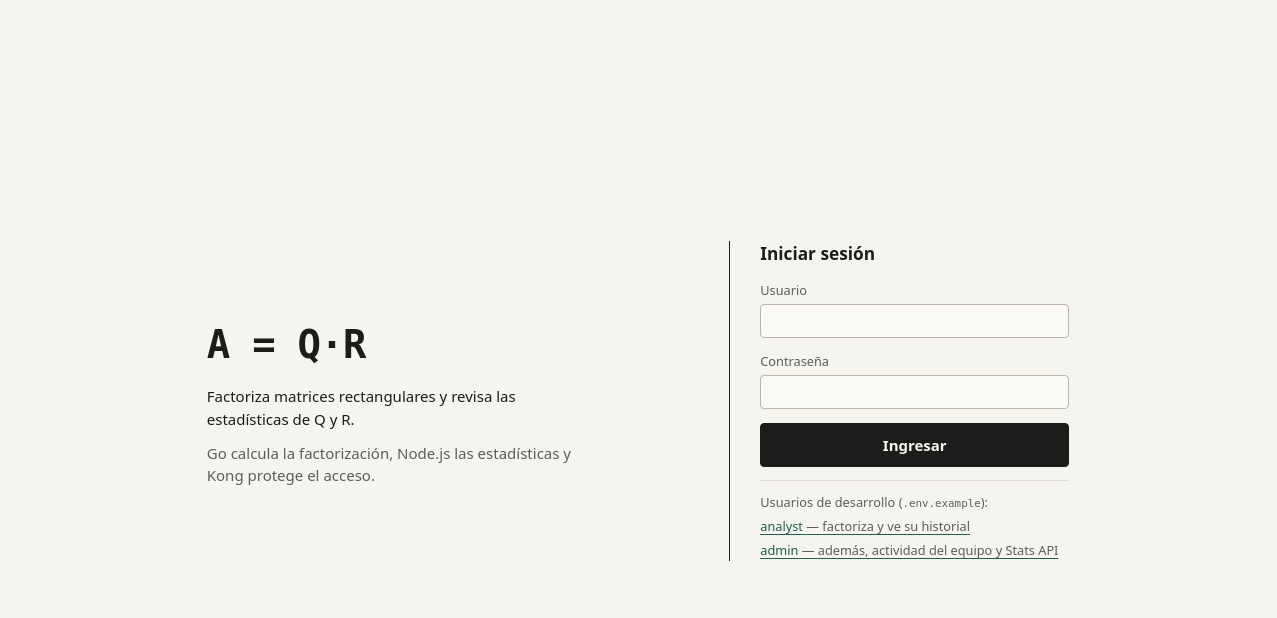
Test case: App › calcula con Ctrl+Enter desde el editor
This screenshot has width=1277, height=618.
Type "analyst" into the field labelled "Usuario".
click(915, 321); type("analyst")  # box left=760, top=304, right=1069, bottom=338
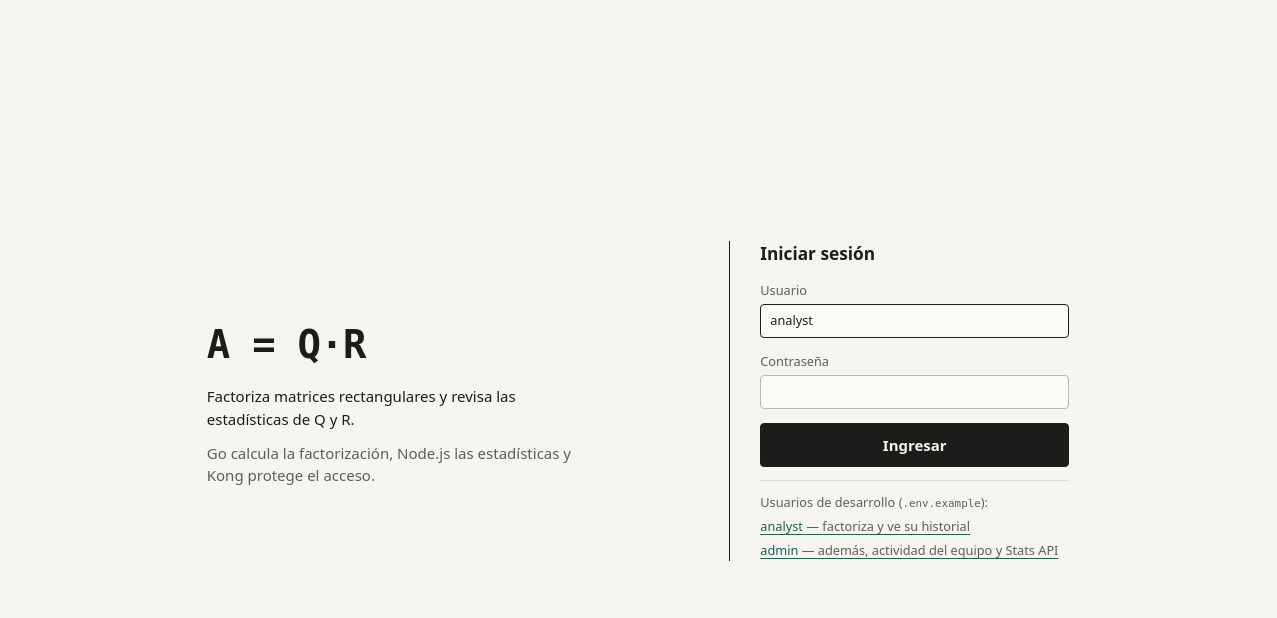
Type "Analyst123!" into the password field labelled "Contraseña".
click(915, 392); type("Analyst123!")  # box left=760, top=375, right=1069, bottom=409
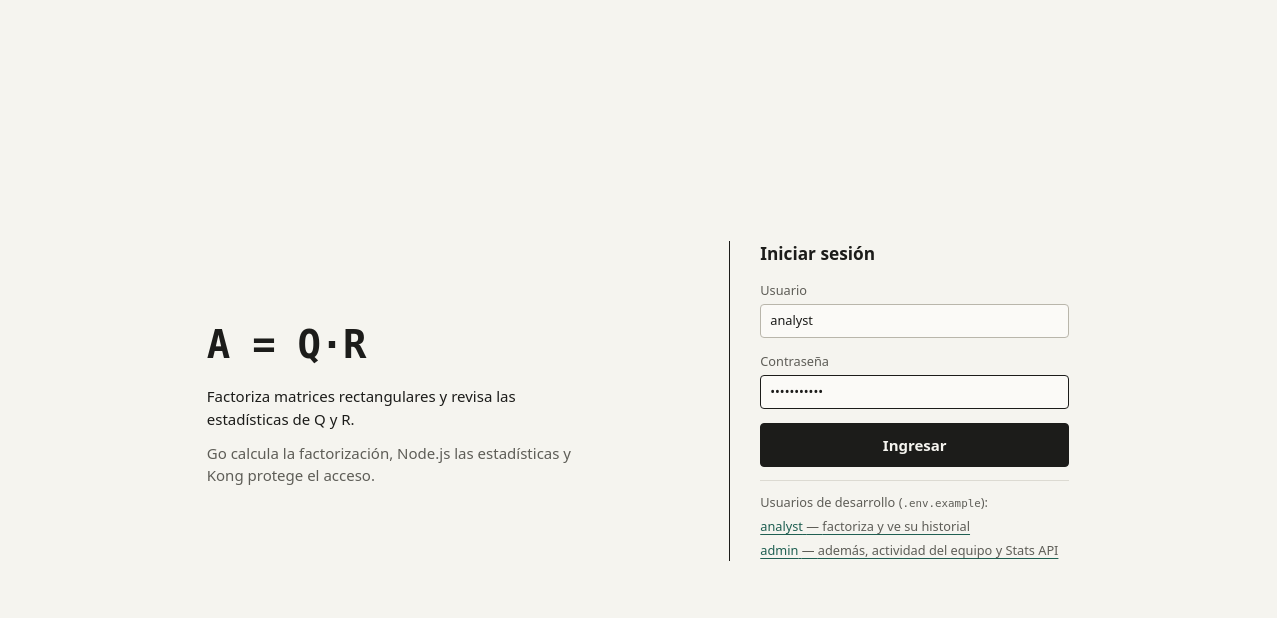
Click the button "Ingresar".
click(915, 445)  # box left=760, top=423, right=1069, bottom=467
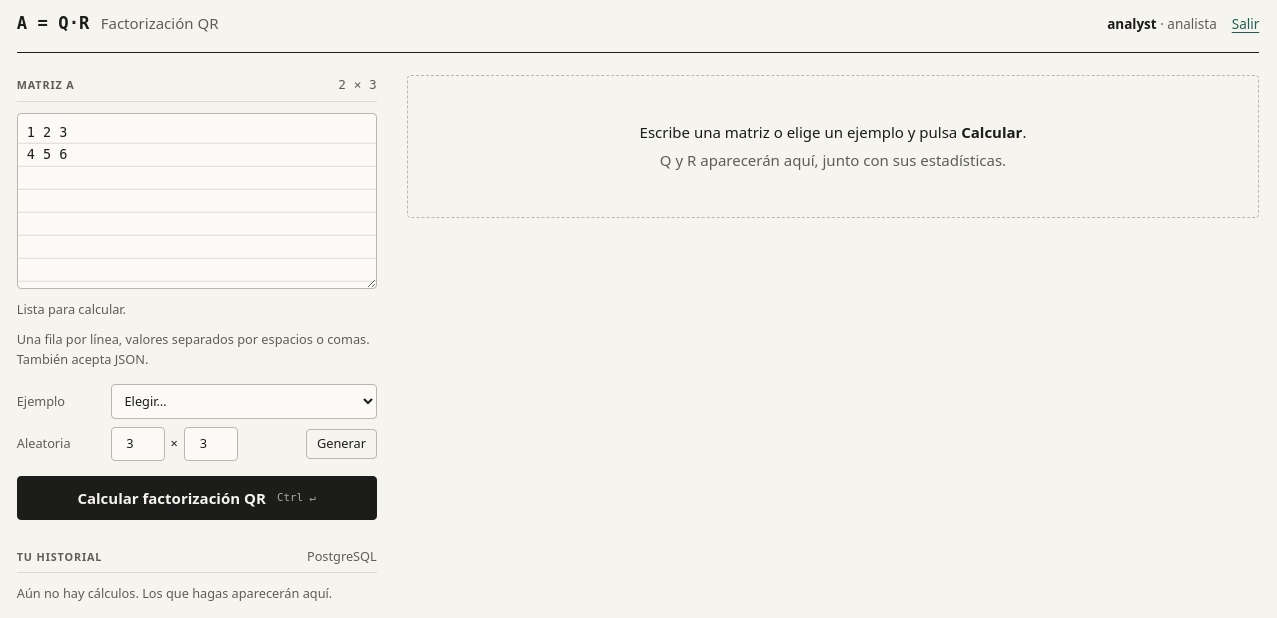
Click the text box labelled "Matriz A".
click(197, 201)  # box left=17, top=113, right=377, bottom=289
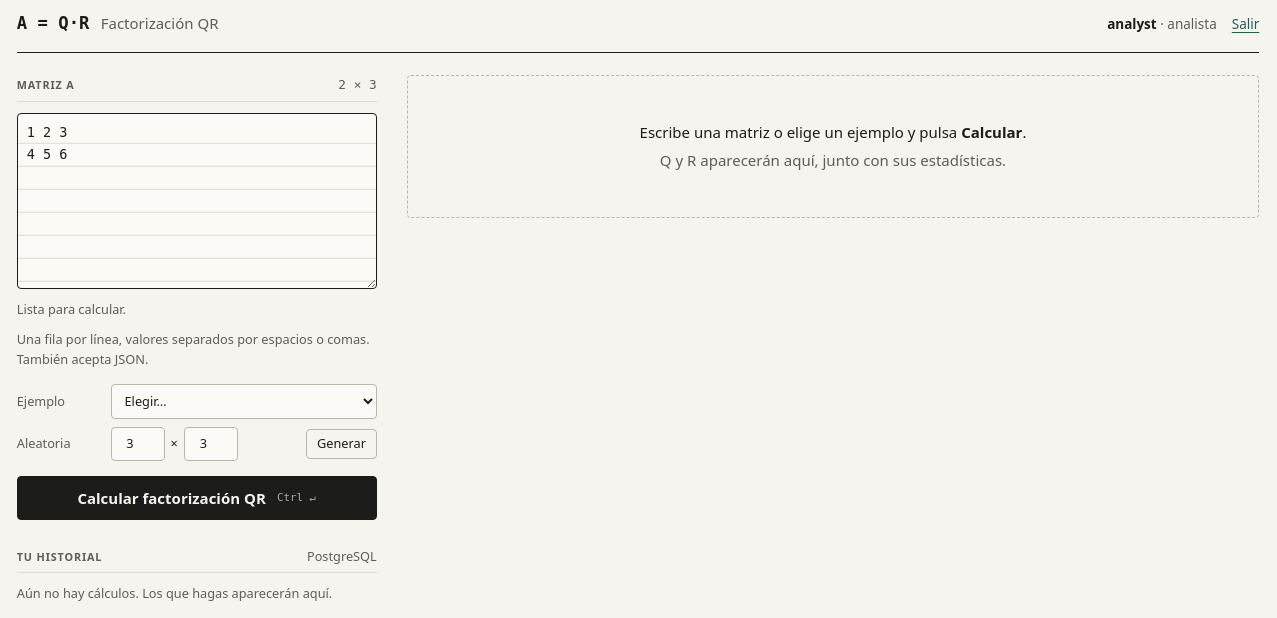
Type keys "{Control>}{Enter}{/Control}"
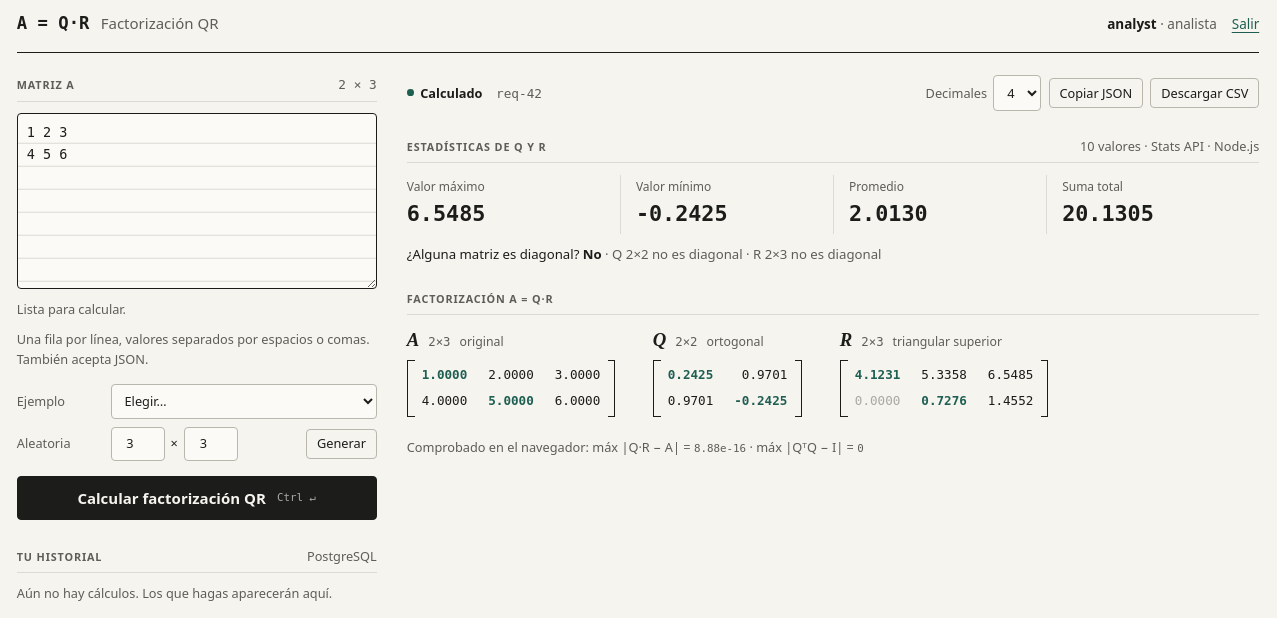
Result: the element "Estadísticas de Q y R" is shown at left=407, top=137, right=1259, bottom=265
